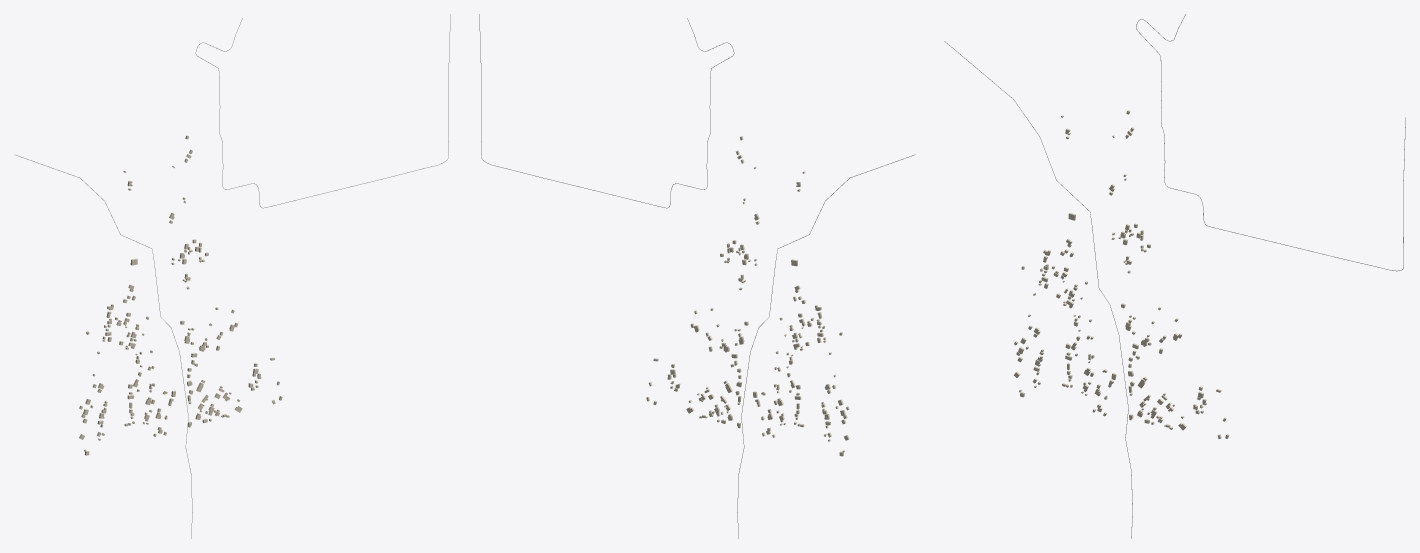
The model's file is historic-palestine-05_16_3468_3104.glb.
3 renders of one model, left to right at view 1: azimuth 30°, elevation 25°; view 2: azimuth 150°, elevation 25°; view 3: azimuth 330°, elevation 25°, orthographic. The views are drawn at different scales.
Parts seen in each view (by area): view 1: Road .001; view 2: Road .001; view 3: Road .001.
Boxes of the visible parts, x1,y1,x2,y2 form: Road .001: [195, 14, 450, 208]; Road .001: [479, 14, 734, 208]; Road .001: [1136, 14, 1405, 271].
Bounding box in the file's own units: 1697 × 1891 × 8.7.
